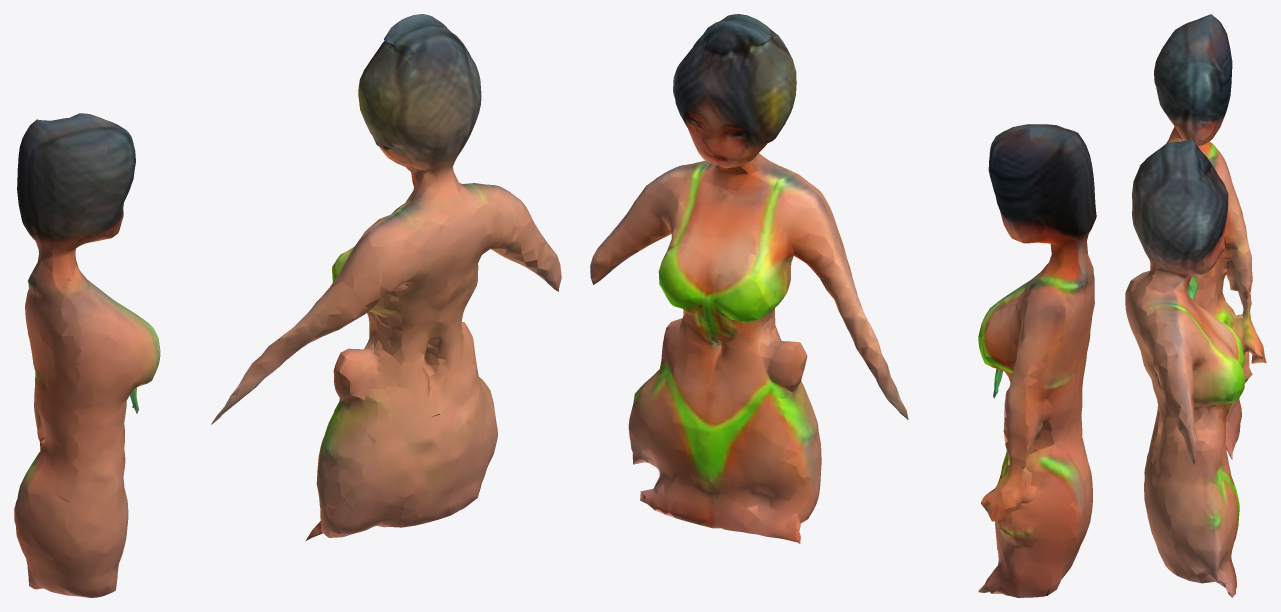
File: tmpf40yanbx.glb
The picture shows the model from 3 angles, left to right: view 1: azimuth 30°, elevation 25°; view 2: azimuth 150°, elevation 25°; view 3: azimuth 270°, elevation 25°; orthographic projection. The views are drawn at different scales.
Visible parts, largest first — view 1: world; view 2: world; view 3: world.
Boxes of the visible parts, x1=… form: world: x1=14, y1=14, x2=561, y2=597; world: x1=590, y1=14, x2=1096, y2=597; world: x1=1125, y1=14, x2=1266, y2=597.
Bounding box in the file's own units: 0.9347 × 0.8662 × 0.257.
1 material, 1 textured.
